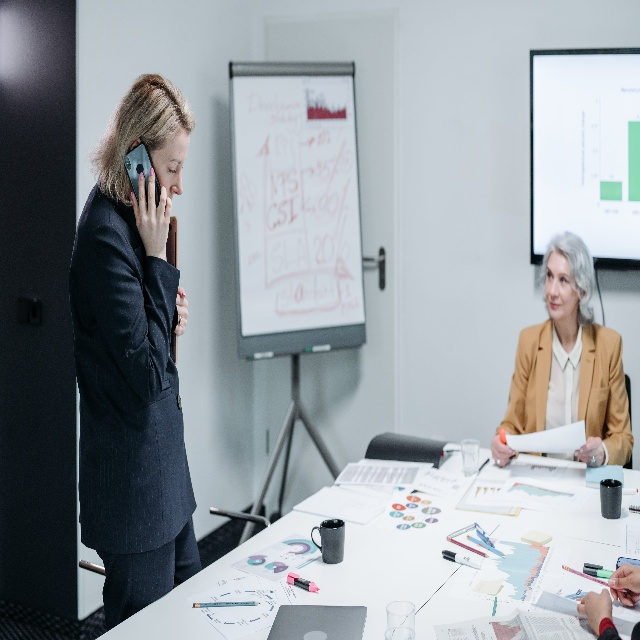Sin_guantes: (128, 165, 174, 256), (576, 585, 614, 637), (609, 562, 640, 608), (574, 434, 605, 469), (490, 433, 516, 468), (172, 285, 189, 336)
